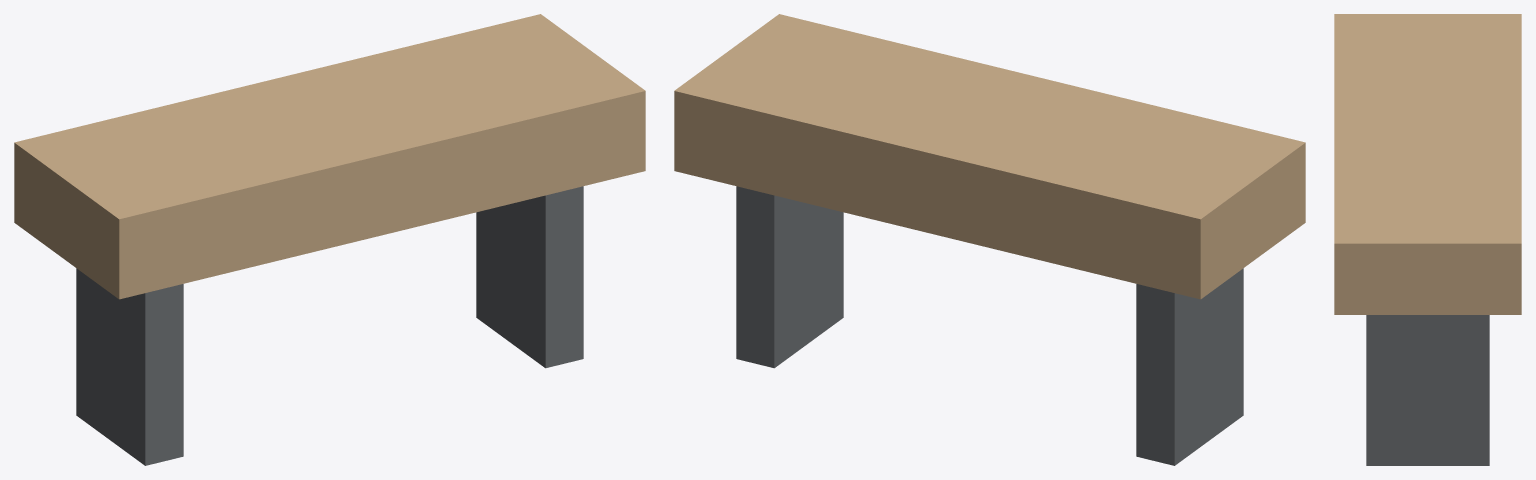
The model's file is gallery_bench_03.glb.
The picture shows the model from 3 angles, left to right: view 1: azimuth 30°, elevation 25°; view 2: azimuth 150°, elevation 25°; view 3: azimuth 270°, elevation 25°; orthographic projection. The views are drawn at different scales.
Parts seen in each view (by area): view 1: seat, leg-0.41800000000000004, leg0.41800000000000004; view 2: seat, leg-0.41800000000000004, leg0.41800000000000004; view 3: seat, leg0.41800000000000004.
Part boxes in pixels (bbox=[...]): seat: bbox=[14, 14, 645, 299]; leg-0.41800000000000004: bbox=[76, 268, 183, 465]; leg0.41800000000000004: bbox=[476, 186, 583, 368]; seat: bbox=[674, 14, 1305, 299]; leg-0.41800000000000004: bbox=[1136, 268, 1243, 465]; leg0.41800000000000004: bbox=[736, 186, 843, 368]; seat: bbox=[1334, 14, 1521, 314]; leg0.41800000000000004: bbox=[1366, 315, 1489, 465].
Size of the model in its own units: 1.1 by 0.54 by 0.38.
